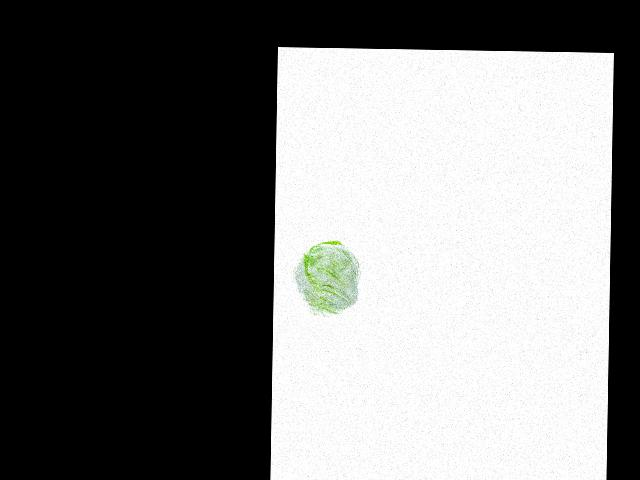lettuce: (293, 241, 357, 316)
